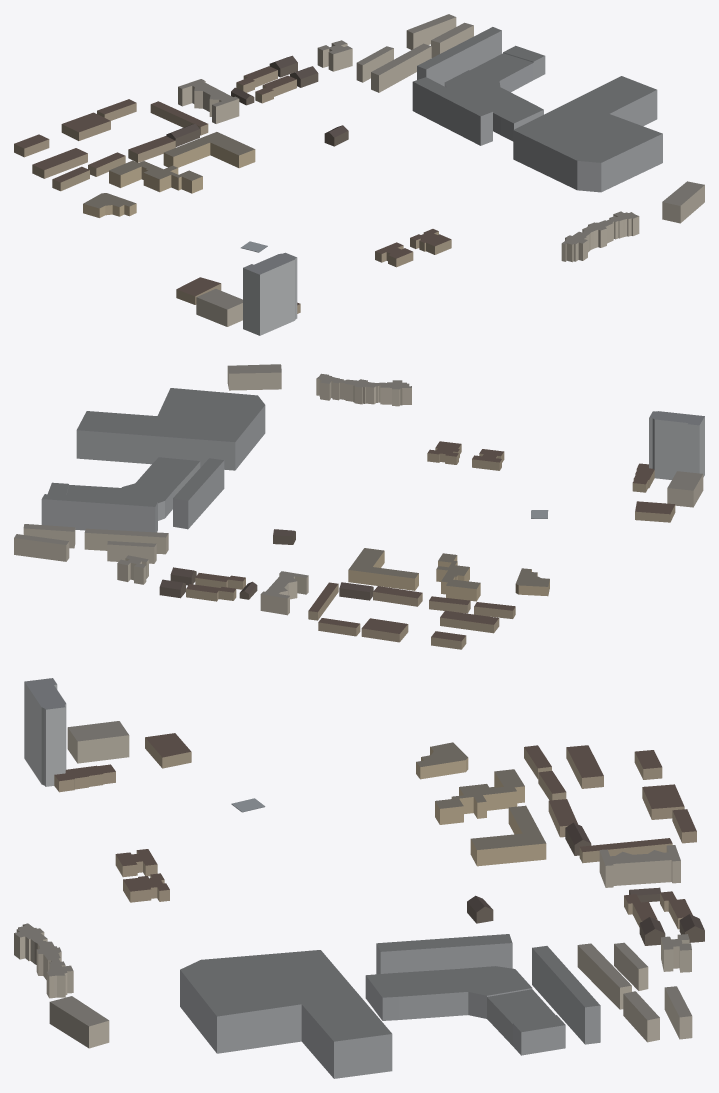
The model's file is tile_3_4.glb.
3 renders of one model, top to bottom at view 1: azimuth 30°, elevation 25°; view 2: azimuth 150°, elevation 25°; view 3: azimuth 270°, elevation 25°, orthographic. The views are drawn at different scales.
Parts seen in each view (by area): view 1: HP-w731233903, HP-w1058562700, HP-w293414309, HP-w1058562701, HP-w1058562702, HP-w1233759509, HP-w1512530040, HP-w1233759508, HP-w1331504964, HP-w1058562704, HP-w293414328, HP-w442026892 (+18 smaller); view 2: HP-w731233903, HP-w1058562702, HP-w293414309, HP-w1058562700, HP-w1512530040, HP-w1058562701, HP-w1233759509, HP-w1233759508, HP-w442026892, HP-w1331504964, HP-w1058562704, HP-w1058562706 (+20 smaller); view 3: HP-w731233903, HP-w1058562700, HP-w1058562701, HP-w293414309, HP-w1058562702, HP-w1233759509, HP-w1233759508, HP-w1331504964, HP-w1512530040, HP-w293414328, HP-w442026892, HP-w1058562704 (+16 smaller).
Part boxes in pixels (left/top/right/bottom): HP-w731233903: left=513, top=76, right=662, bottom=192; HP-w1058562700: left=444, top=45, right=545, bottom=141; HP-w293414309: left=243, top=252, right=297, bottom=335; HP-w1058562701: left=412, top=77, right=492, bottom=145; HP-w1058562702: left=417, top=27, right=501, bottom=86; HP-w1233759509: left=163, top=132, right=255, bottom=168; HP-w1512530040: left=561, top=211, right=639, bottom=262; HP-w1233759508: left=109, top=160, right=202, bottom=193; HP-w1331504964: left=178, top=79, right=239, bottom=123; HP-w1058562704: left=371, top=43, right=431, bottom=92; HP-w293414328: left=196, top=289, right=242, bottom=326; HP-w442026892: left=662, top=181, right=704, bottom=223; HP-w731233903: left=76, top=388, right=265, bottom=470; HP-w1058562702: left=41, top=494, right=157, bottom=532; HP-w293414309: left=649, top=411, right=704, bottom=479; HP-w1058562700: left=48, top=457, right=200, bottom=520; HP-w1512530040: left=316, top=373, right=411, bottom=406; HP-w1058562701: left=173, top=458, right=224, bottom=529; HP-w1233759509: left=348, top=548, right=418, bottom=590; HP-w1233759508: left=436, top=553, right=480, bottom=601; HP-w442026892: left=227, top=364, right=281, bottom=390; HP-w1331504964: left=260, top=571, right=308, bottom=615; HP-w1058562704: left=84, top=528, right=168, bottom=554; HP-w1058562706: left=14, top=534, right=69, bottom=561; HP-w731233903: left=180, top=950, right=392, bottom=1078; HP-w1058562700: left=365, top=966, right=565, bottom=1055; HP-w1058562701: left=376, top=934, right=512, bottom=974; HP-w293414309: left=24, top=678, right=66, bottom=786; HP-w1058562702: left=532, top=946, right=600, bottom=1044; HP-w1233759509: left=470, top=805, right=546, bottom=866; HP-w1233759508: left=435, top=769, right=524, bottom=824; HP-w1331504964: left=599, top=845, right=680, bottom=887; HP-w1512530040: left=14, top=923, right=73, bottom=998; HP-w293414328: left=67, top=721, right=129, bottom=763; HP-w442026892: left=49, top=996, right=109, bottom=1048; HP-w1058562704: left=577, top=943, right=631, bottom=1009.
Bounding box in the file's own units: 588 × 63 × 511.
